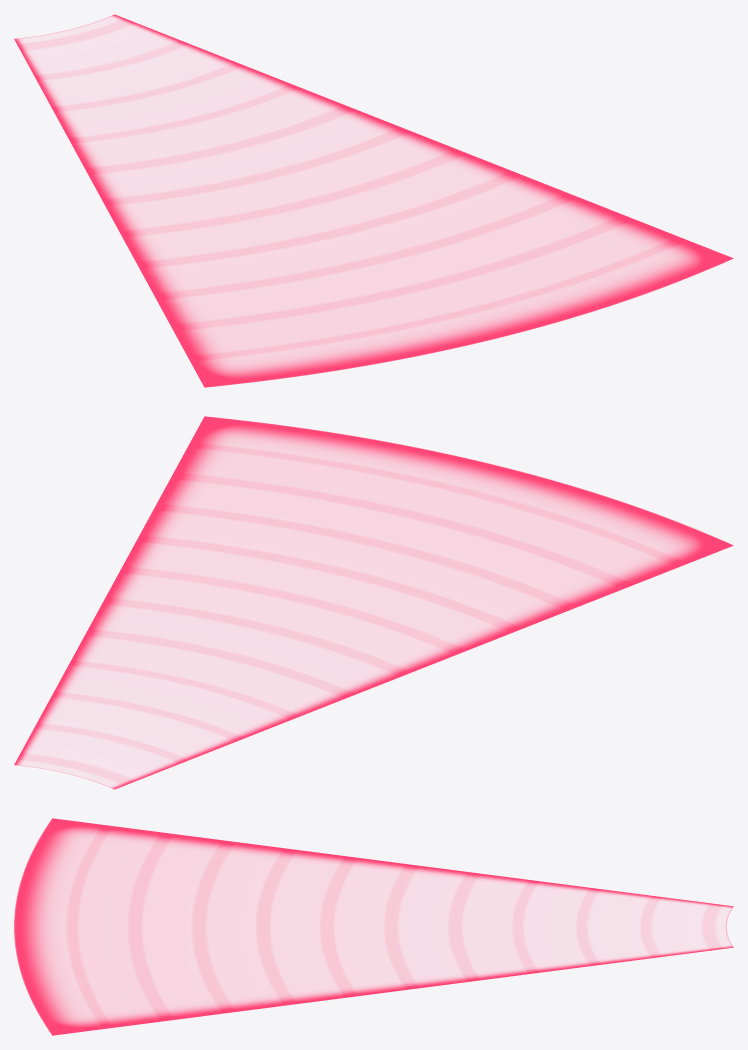
File: wedge34_soft.glb
3 renders of one model, top to bottom at view 1: azimuth 30°, elevation 25°; view 2: azimuth 150°, elevation 25°; view 3: azimuth 270°, elevation 25°, orthographic. The views are drawn at different scales.
Visible parts, largest first — view 1: wedge; view 2: wedge; view 3: wedge.
Boxes of the visible parts, x1,y1,x2,y2 form: wedge: (14,14,733,387); wedge: (14,416,733,789); wedge: (14,818,733,1035).
Bounding box in the file's own units: 0.5847 × 0 × 0.8183.
1 material, 1 textured.
